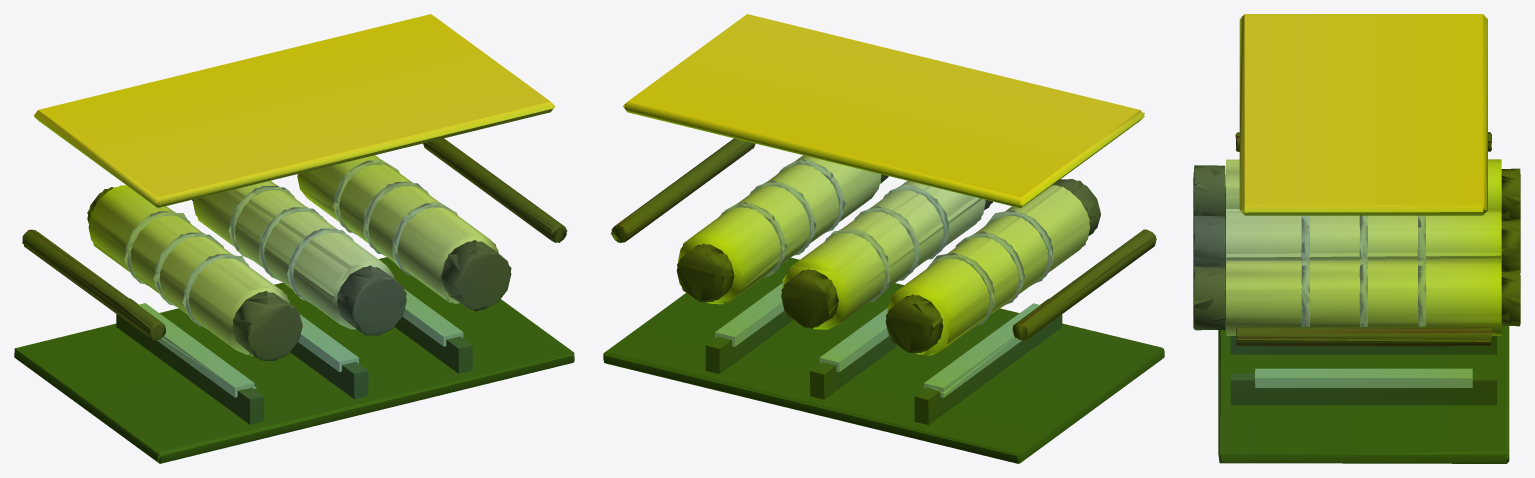
File: RCLModule_tidebreaker_skirmisher_cryo_glacier_camo_fueldrums_LODs.fbx
3 renders of one model, left to right at view 1: azimuth 30°, elevation 25°; view 2: azimuth 150°, elevation 25°; view 3: azimuth 270°, elevation 25°, orthographic.
Parts seen in each view (by area): view 1: LOD1_RCLModule_tidebreaker_skirmisher_cryo_glacier_camo_fuel (×3), LOD2_RCLModule_tidebreaker_skirmisher_cryo_glacier_camo_fuel (×3); view 2: LOD1_RCLModule_tidebreaker_skirmisher_cryo_glacier_camo_fuel (×3), LOD2_RCLModule_tidebreaker_skirmisher_cryo_glacier_camo_fuel (×3); view 3: LOD1_RCLModule_tidebreaker_skirmisher_cryo_glacier_camo_fuel (×3), LOD2_RCLModule_tidebreaker_skirmisher_cryo_glacier_camo_fuel (×3).
Boxes of the visible parts, bbox=[...] form: LOD1_RCLModule_tidebreaker_skirmisher_cryo_glacier_camo_fuel (×3): bbox=[14, 14, 574, 463]; LOD2_RCLModule_tidebreaker_skirmisher_cryo_glacier_camo_fuel (×3): bbox=[15, 107, 574, 463]; LOD1_RCLModule_tidebreaker_skirmisher_cryo_glacier_camo_fuel (×3): bbox=[603, 14, 1164, 463]; LOD2_RCLModule_tidebreaker_skirmisher_cryo_glacier_camo_fuel (×3): bbox=[604, 105, 1163, 463]; LOD1_RCLModule_tidebreaker_skirmisher_cryo_glacier_camo_fuel (×3): bbox=[1193, 14, 1520, 463]; LOD2_RCLModule_tidebreaker_skirmisher_cryo_glacier_camo_fuel (×3): bbox=[1193, 16, 1520, 463].
Bounding box in the file's own units: 66.14 × 38.6 × 45.02.
